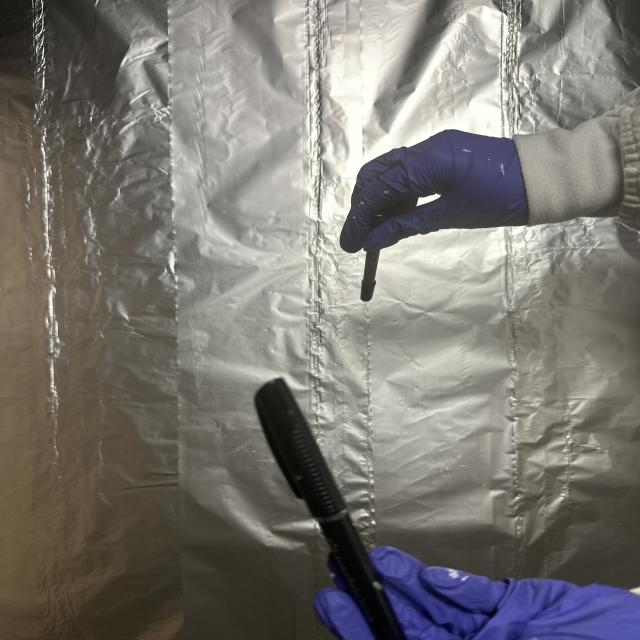gloves_contaminated: (315, 547, 640, 640), (340, 130, 528, 252)
